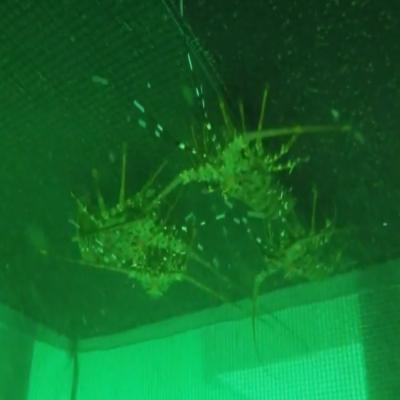lobster: (198, 105, 294, 219), (75, 180, 152, 262), (261, 221, 344, 281), (136, 257, 176, 300)
